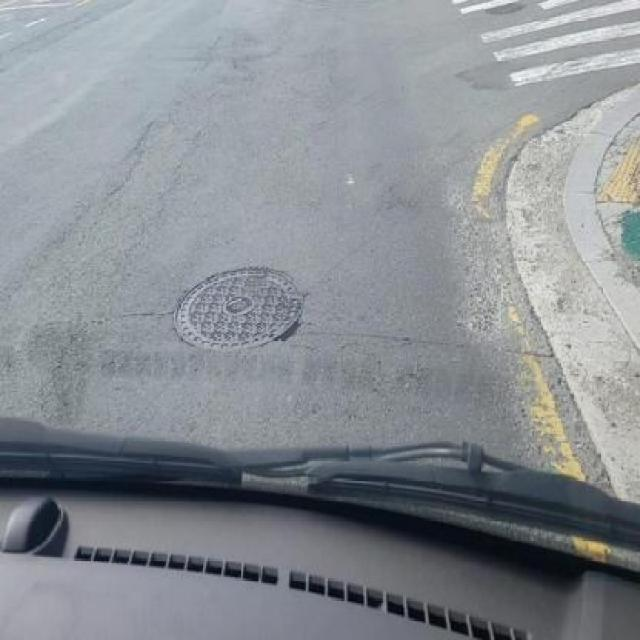Manhole: (171, 268, 304, 356)
